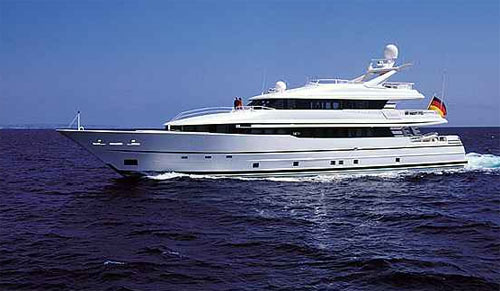yacht: (57, 40, 470, 180)
